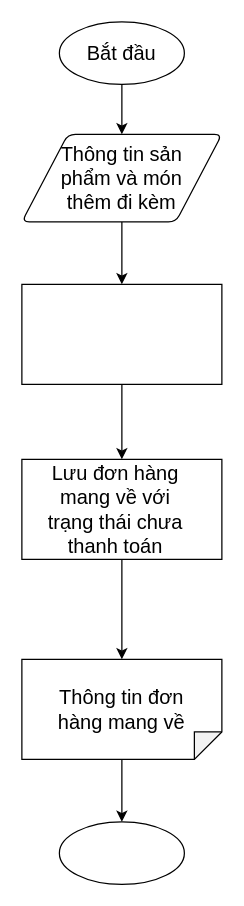
The diagram is 244 pixels wide and 906 high, and some of its shapes have lost their labels. The centre of each missing label's shape, as x and y in pixels:
Hệ thống khởi tạo đơn hàng mang về: the point at 121,333
Kết thúc: the point at 121,852
